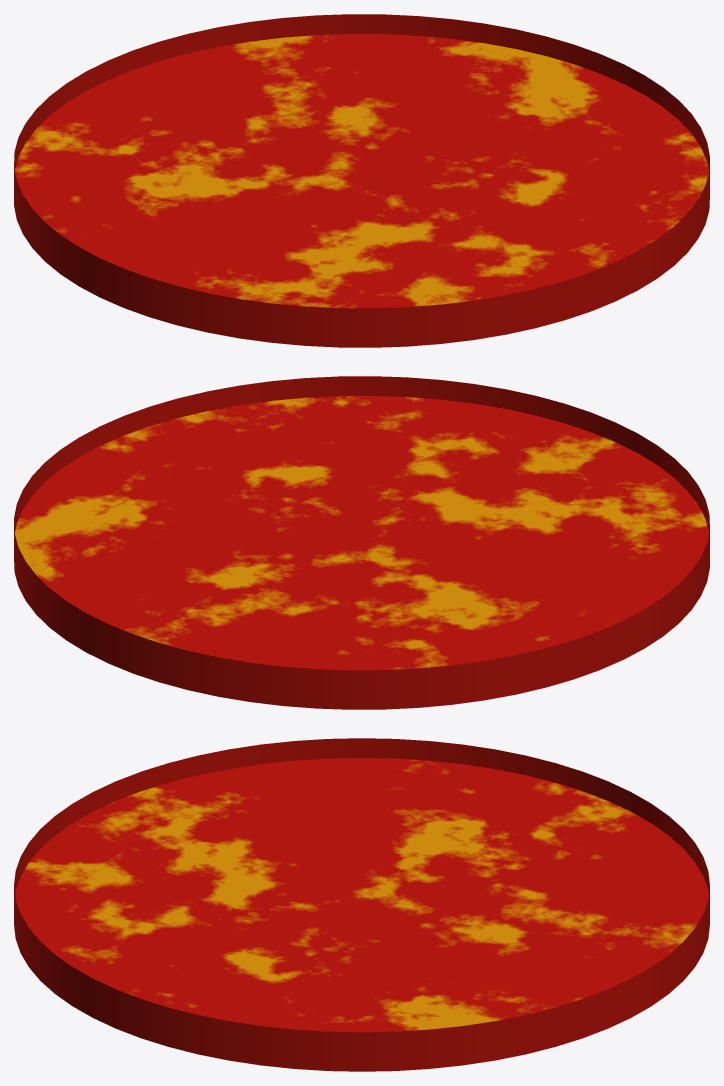
File: lava_lake_r2.obj
3 views of the same model, one above another, from view 1: azimuth 30°, elevation 25°; view 2: azimuth 150°, elevation 25°; view 3: azimuth 270°, elevation 25° (orthographic).
Parts seen in each view (by area): view 1: lava_r2; view 2: lava_r2; view 3: lava_r2.
Part boxes in pixels (bbox=[...]): lava_r2: bbox=[14, 14, 709, 347]; lava_r2: bbox=[14, 376, 709, 709]; lava_r2: bbox=[14, 738, 709, 1071].
Size of the model in its own units: 4 by 0.25 by 4.
